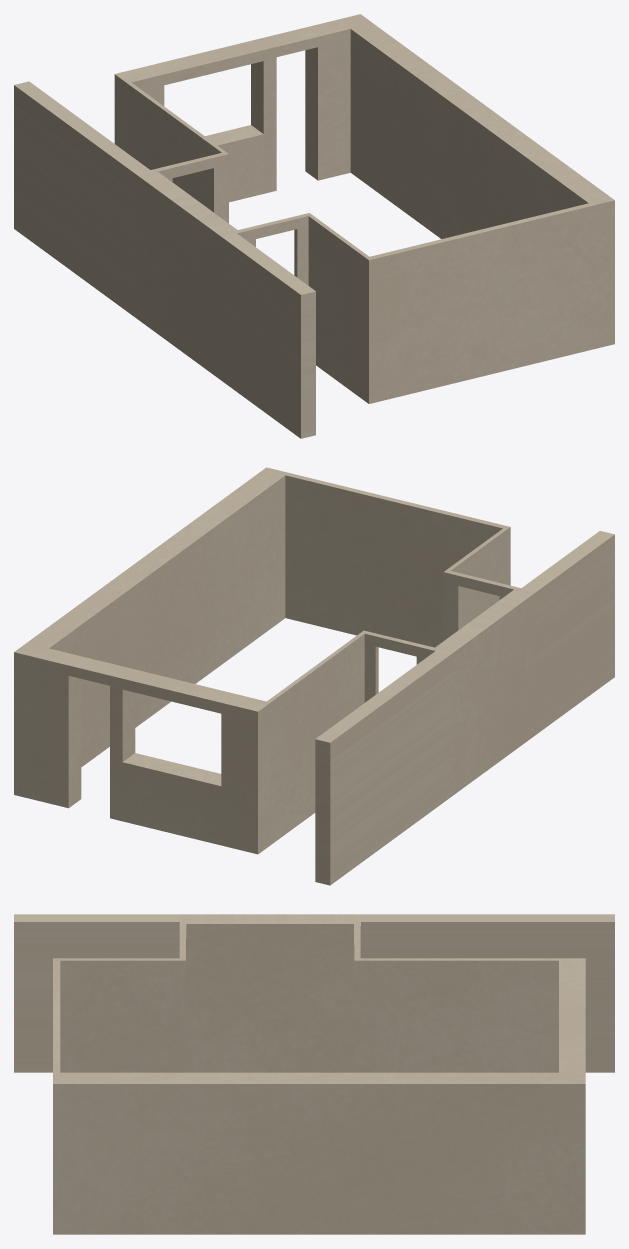
The model's file is room_livingroom_hall.fbx.
The picture shows the model from 3 angles, top to bottom: view 1: azimuth 30°, elevation 25°; view 2: azimuth 150°, elevation 25°; view 3: azimuth 270°, elevation 25°; orthographic projection. The views are drawn at different scales.
Parts seen in each view (by area): view 1: room_livingroom_hall; view 2: room_livingroom_hall; view 3: room_livingroom_hall.
Boxes of the visible parts, x1,y1,x2,y2 form: room_livingroom_hall: (14,14,614,438); room_livingroom_hall: (14,467,614,885); room_livingroom_hall: (14,914,614,1234).
Size of the model in its own units: 8.47 by 3.5 by 12.66.
1 material, 1 textured.
